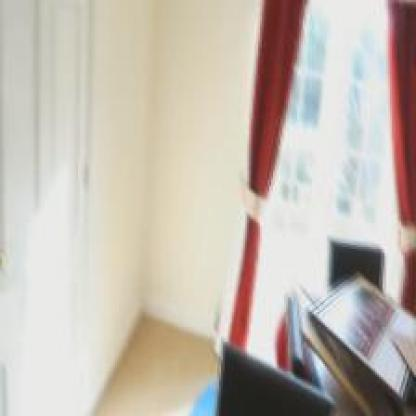other: (236, 9, 281, 320), (379, 0, 412, 301)
